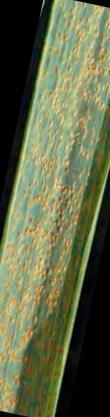Wheat: (1, 274, 52, 400), (57, 6, 110, 116), (31, 124, 93, 213), (8, 219, 81, 268)
